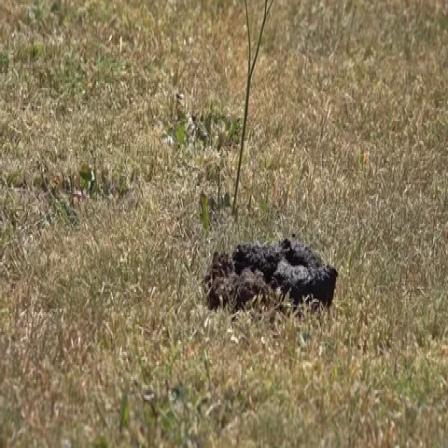dog-poop: (206, 228, 337, 319)
